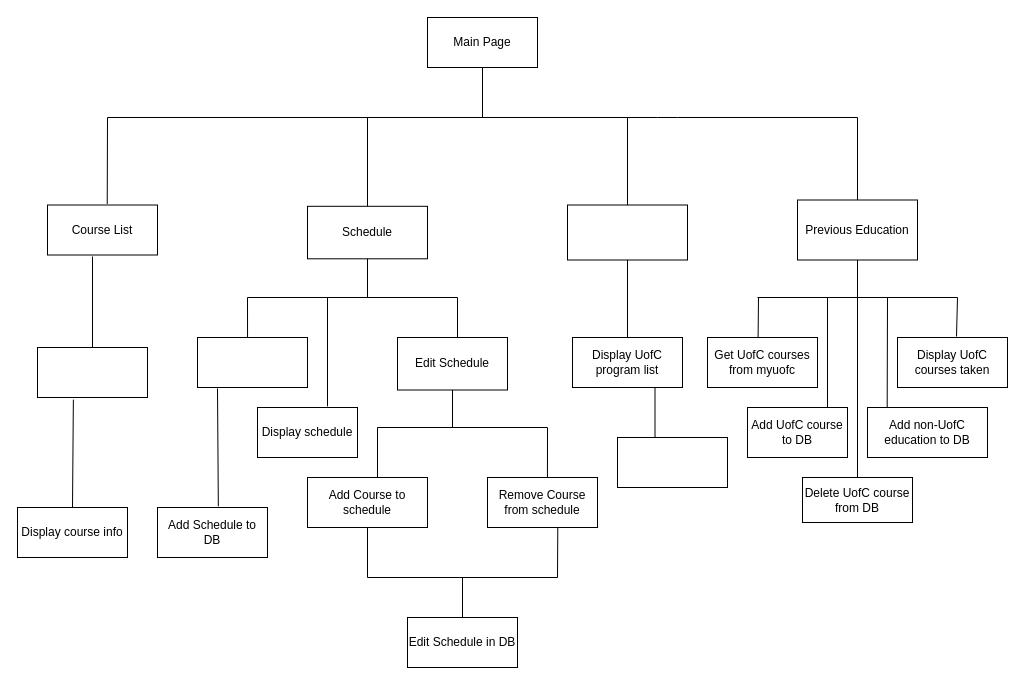
The diagram is 1025 pixels wide and 685 high, and some of its shapes have lost their labels. The centre of each missing label's shape, as x and y in pixels:
Display UofC course list: point (92, 372)
Generate schedule by program: point (252, 362)
Programs: point (627, 232)
Show program requirements: point (672, 462)
